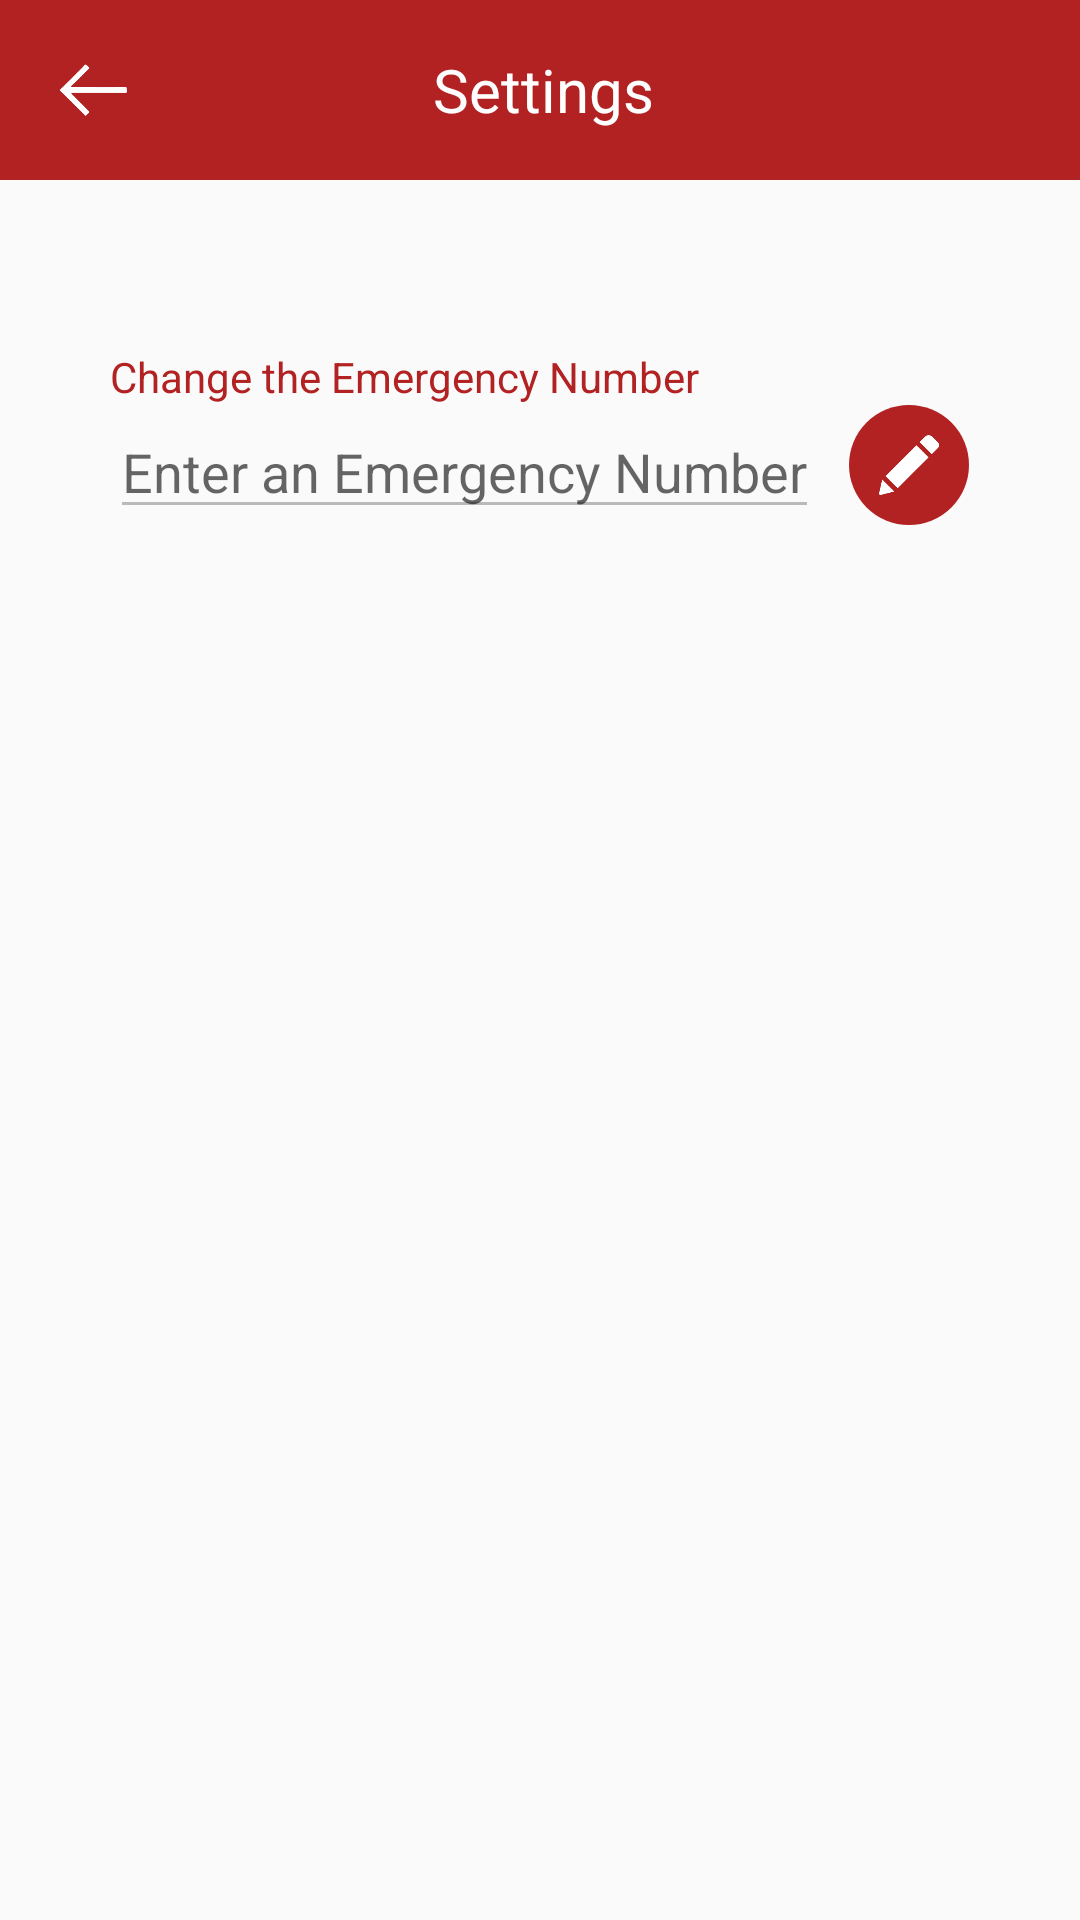

Screen size 1080×1920. Icon name, then its center in pixels as (x,y):
back arrow: (93,90)
Edit: (909,465)
